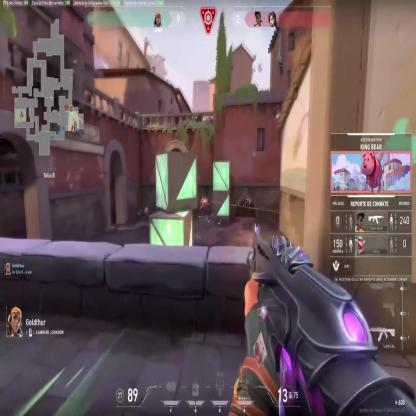enemy: (199, 192, 206, 216)
enemy_head: (202, 195, 205, 200)
